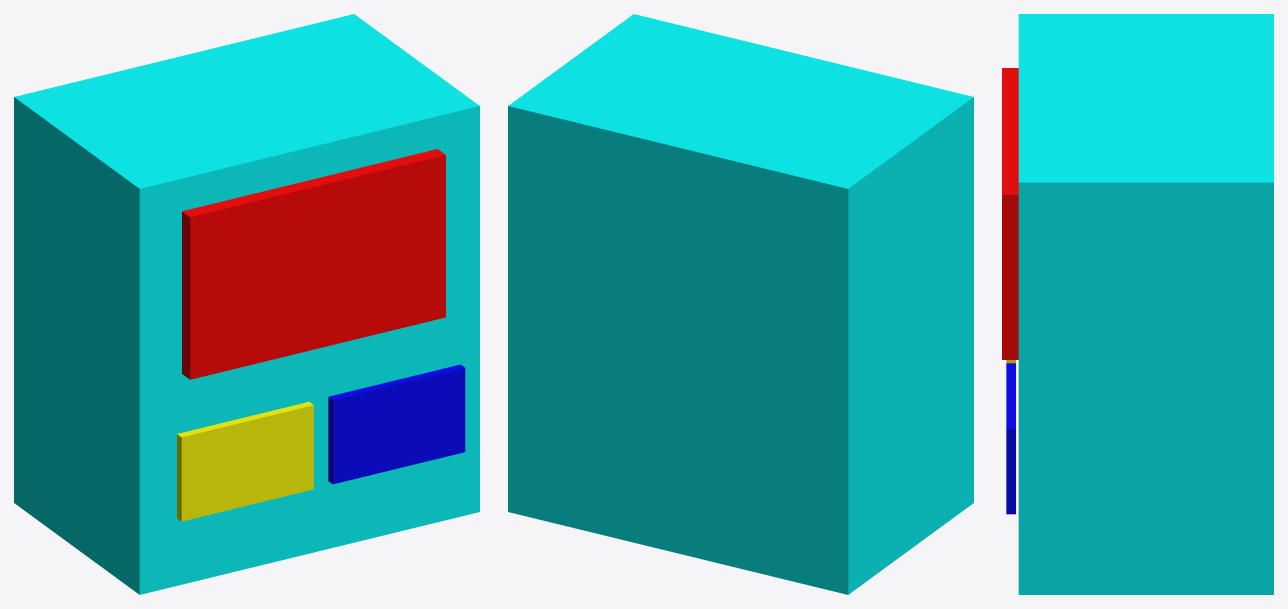
Rendered from body.obj.
3 views of the same model, side by side, from view 1: azimuth 30°, elevation 25°; view 2: azimuth 150°, elevation 25°; view 3: azimuth 270°, elevation 25° (orthographic).
Parts seen in each view (by area): view 1: pCube30 polySurface24, polySurface23 pCube30, pCube30 polySurface22, pCube30 polySurface21; view 2: pCube30 polySurface24; view 3: pCube30 polySurface24, polySurface23 pCube30, pCube30 polySurface22.
Boxes of the visible parts, left/top/right/bottom form: pCube30 polySurface24: left=14, top=14, right=479, bottom=594; polySurface23 pCube30: left=182, top=149, right=445, bottom=379; pCube30 polySurface22: left=328, top=364, right=465, bottom=484; pCube30 polySurface21: left=177, top=401, right=313, bottom=521; pCube30 polySurface24: left=508, top=14, right=973, bottom=594; pCube30 polySurface24: left=1018, top=14, right=1273, bottom=594; polySurface23 pCube30: left=1002, top=68, right=1018, bottom=359; pCube30 polySurface22: left=1006, top=363, right=1015, bottom=514.
Bounding box in the file's own units: 4.95 × 5.65 × 3.38.
